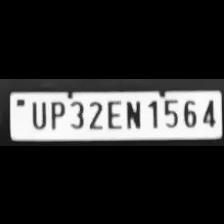1: (144, 97, 160, 129)
2: (84, 98, 104, 130)
3: (65, 97, 84, 129)
4: (199, 96, 217, 127)
5: (160, 96, 178, 128)
6: (180, 96, 198, 128)
E: (104, 97, 120, 128)
N: (122, 97, 144, 129)
P: (46, 97, 66, 128)
U: (28, 97, 48, 128)
